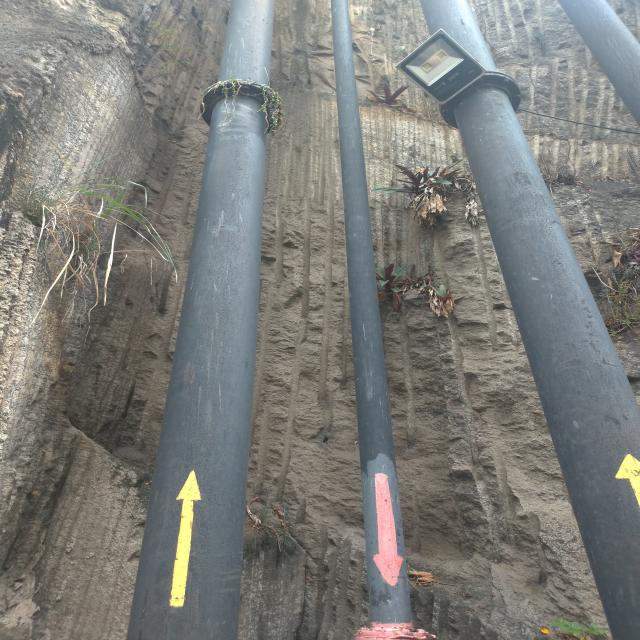gas: (421, 0, 640, 640), (125, 0, 272, 640), (329, 1, 418, 640), (561, 0, 640, 116)
